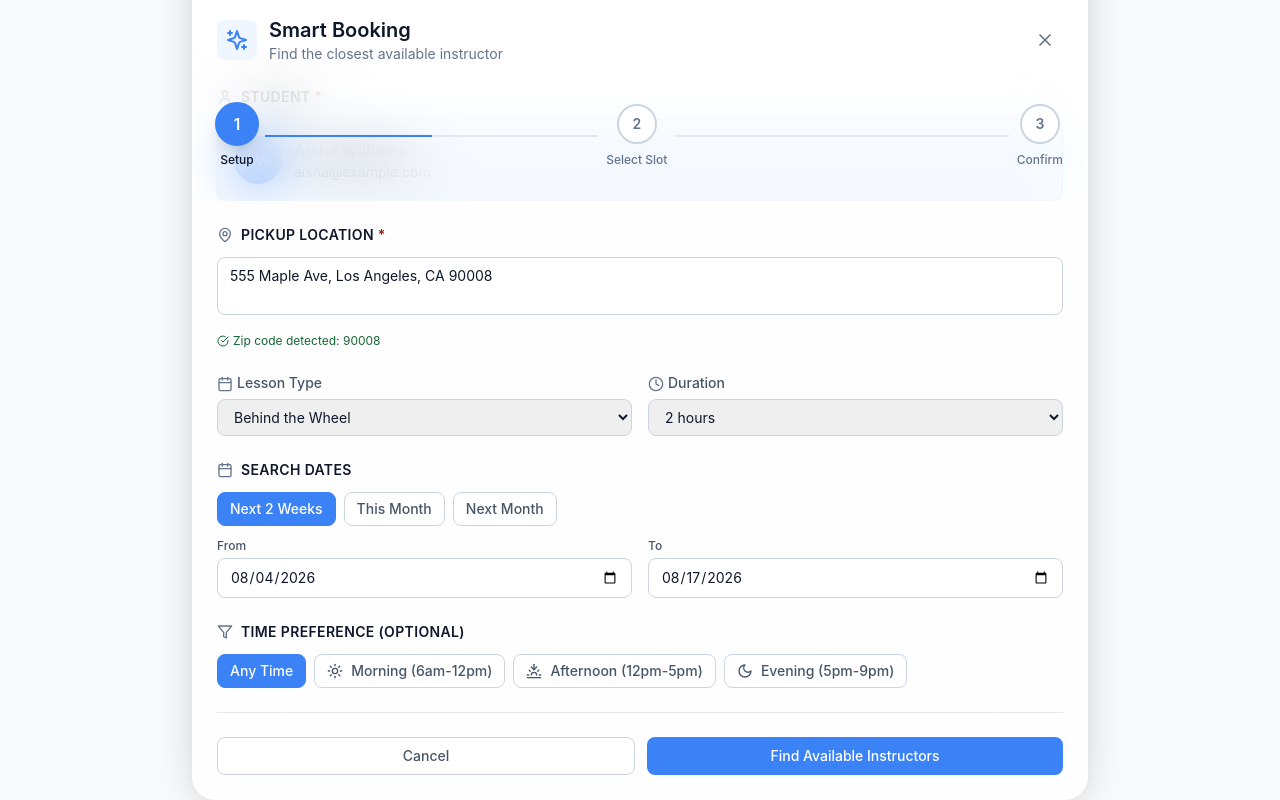
Test case: SmartBookingForm - stale-slot conflict recovery › shows a recovery notice and returns to the slots step when confirm hits a race-condition conflict
(page scrolled)
Click the button "Find Available Instructors" at coordinates (855, 756), box [647,737,1063,775]
(page scrolled)
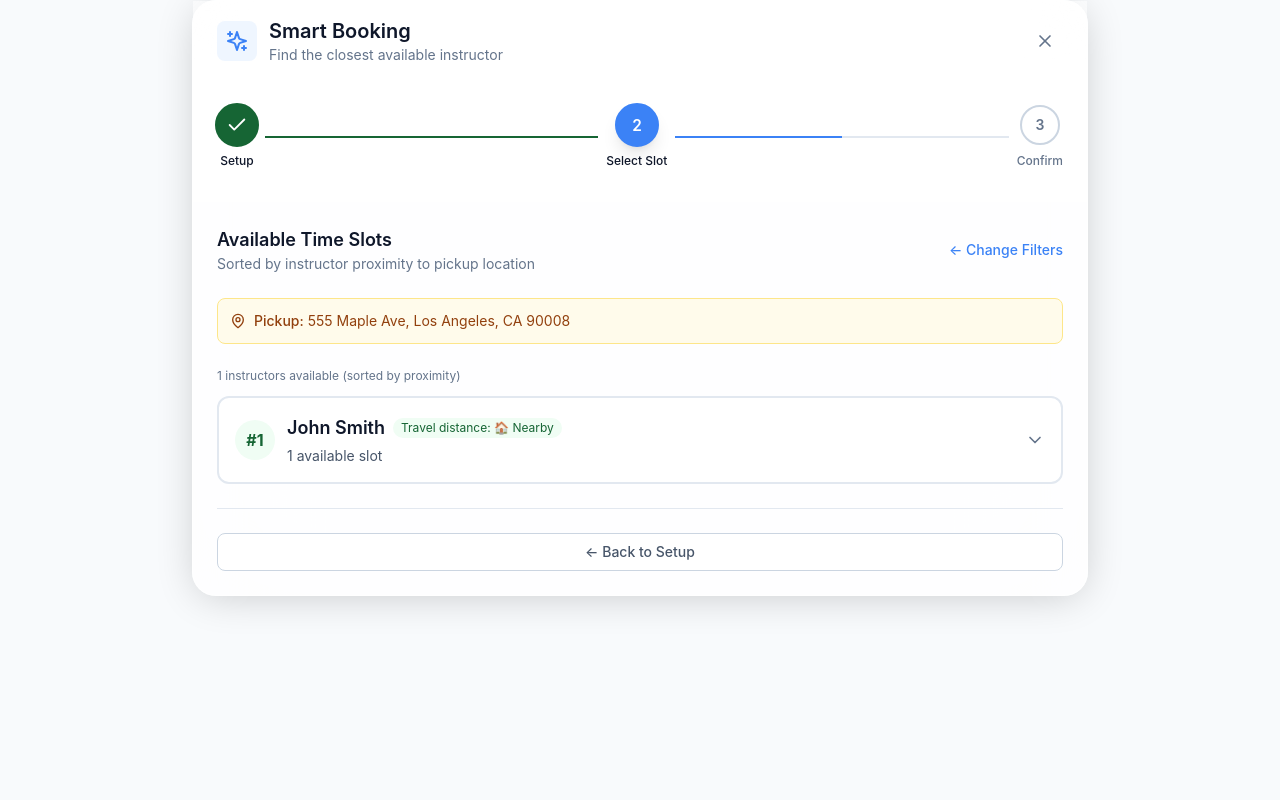
Click the text "John Smith" at coordinates (336, 428), box [287,414,385,442]
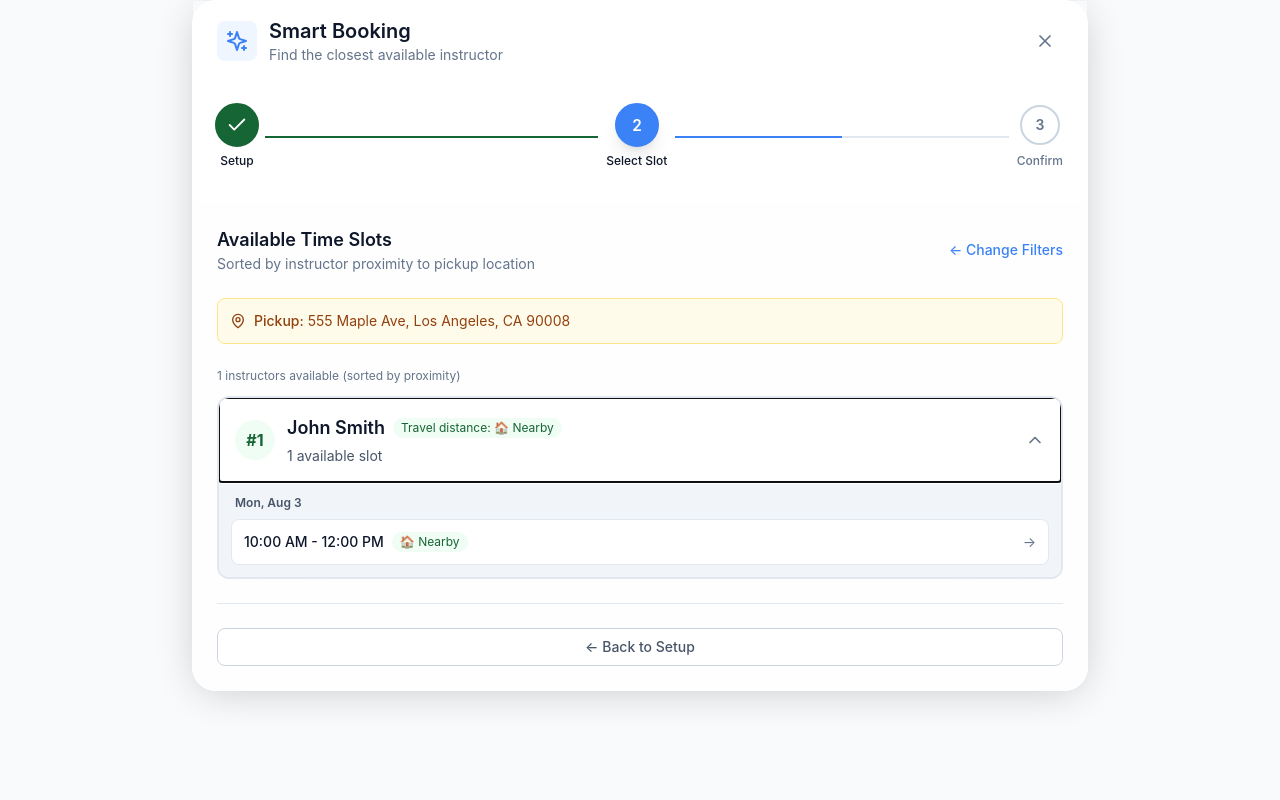
Click the text "10:00 AM - 12:00 PM" at coordinates (314, 542), box [244,532,384,552]
(page scrolled)
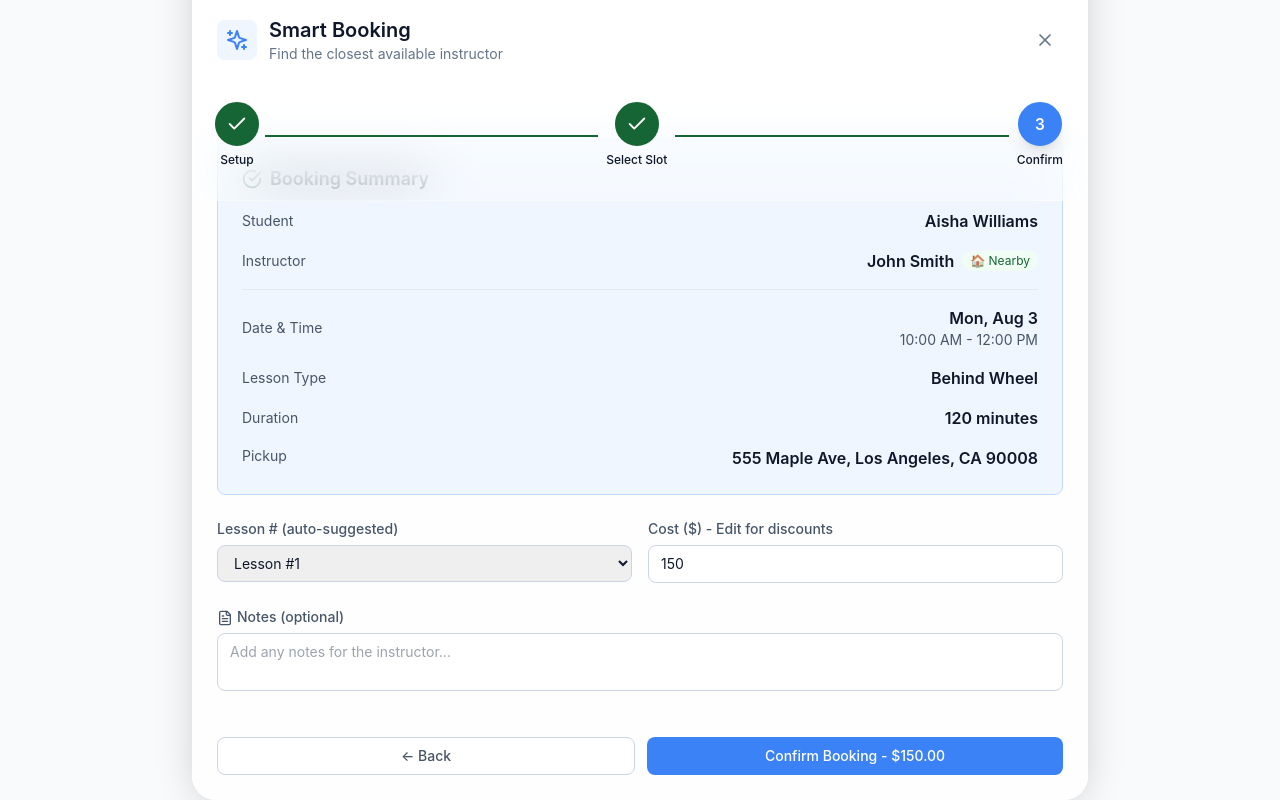
Result: the heading "Booking Summary" is shown at [242,168,429,189]
Click the button "Confirm Booking - $150.00" at coordinates (855, 756), box [647,737,1063,775]
(page scrolled)
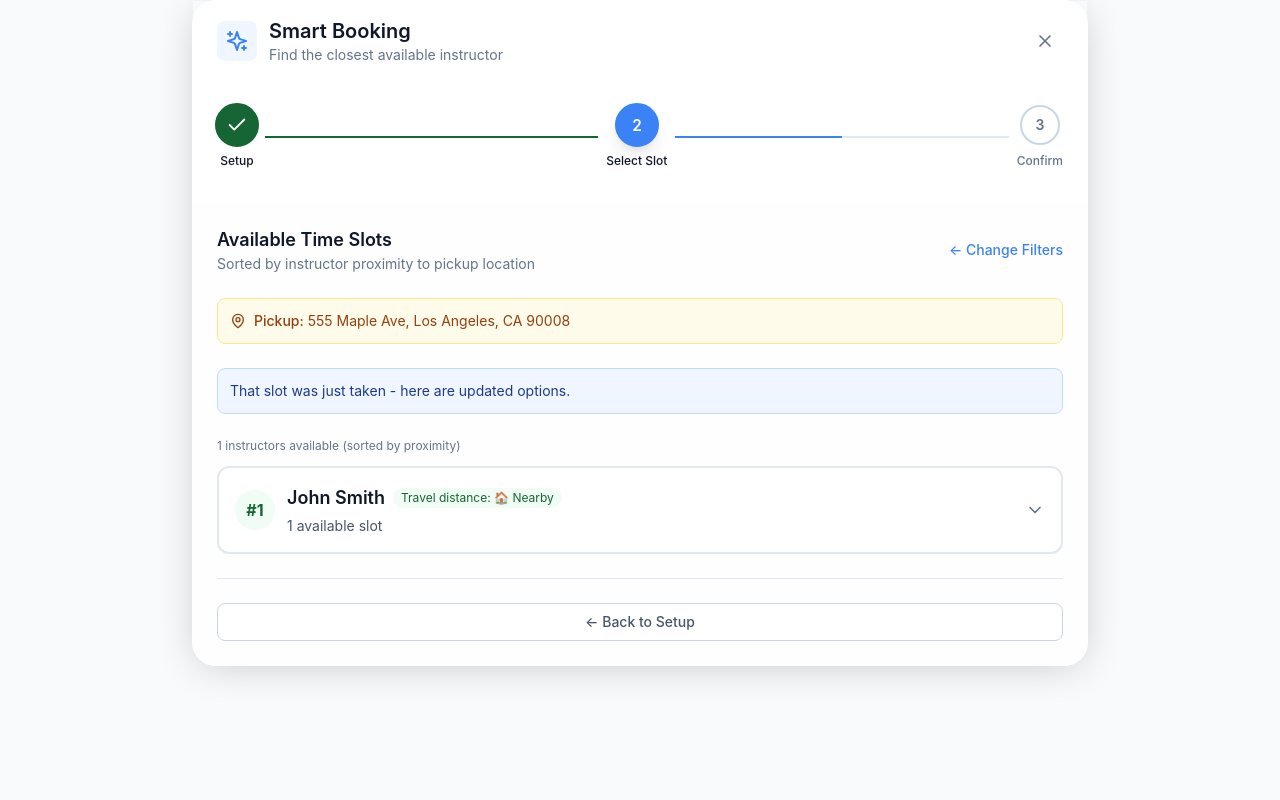
Result: the text "That slot was just taken - here are updated options." is shown at [217,368,1063,414]
Note: The re-search's fresh 2-4pm slot is available once its instructor group is expanded
Click the text "John Smith" at coordinates (336, 498), box [287,484,385,512]
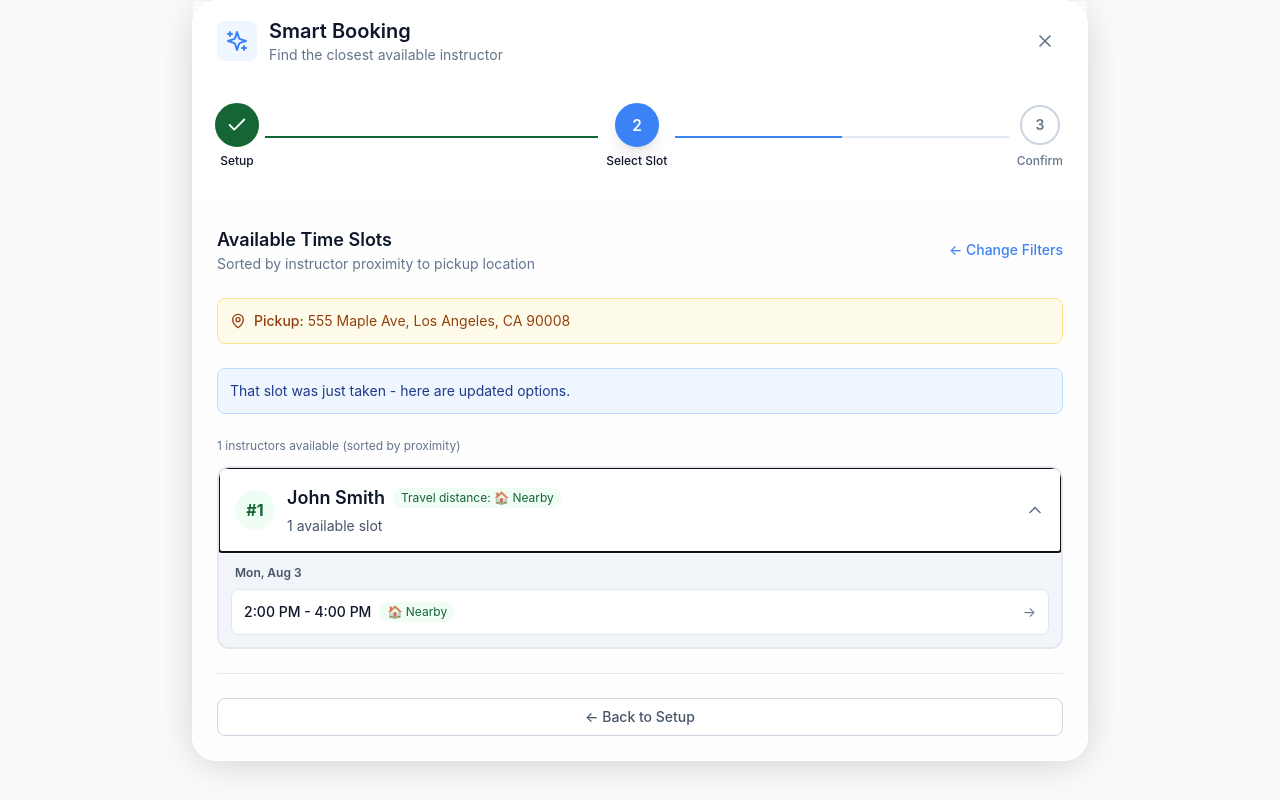
Result: the text "2:00 PM - 4:00 PM" is shown at [244,602,371,622]
